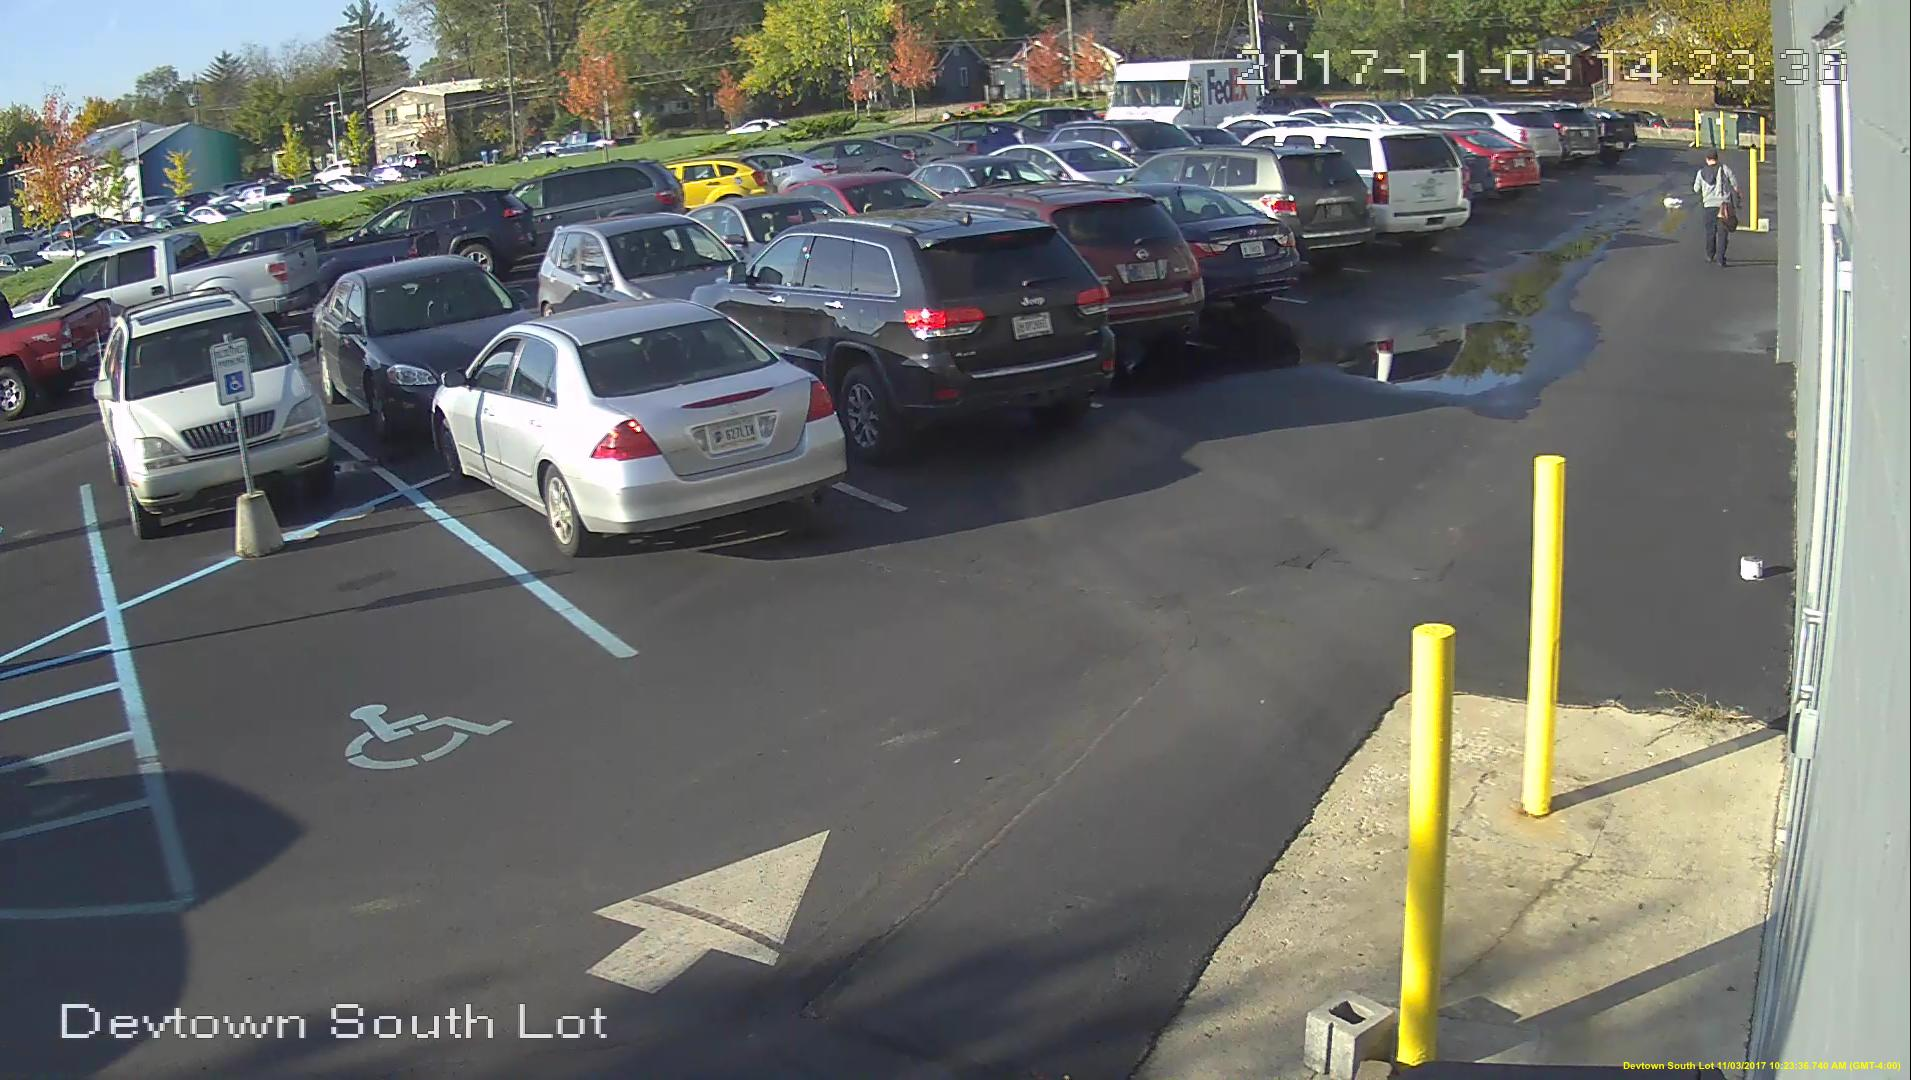fedex_truck: (1102, 52, 1267, 133)
